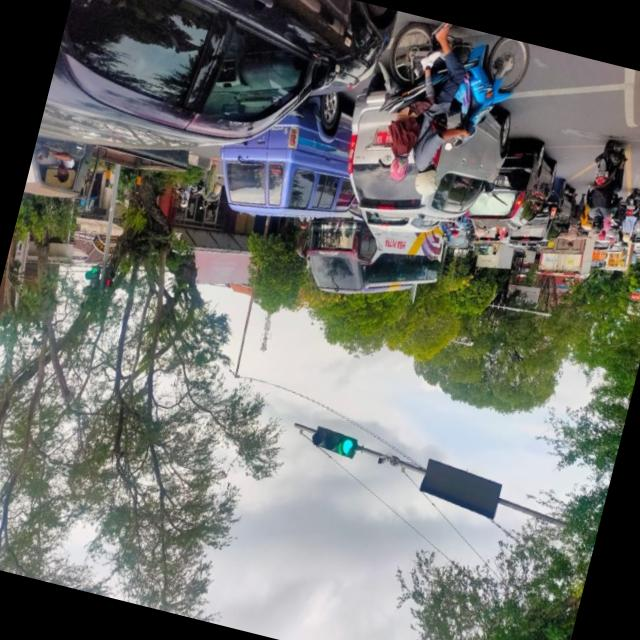green-lights: (339, 436, 353, 455)
